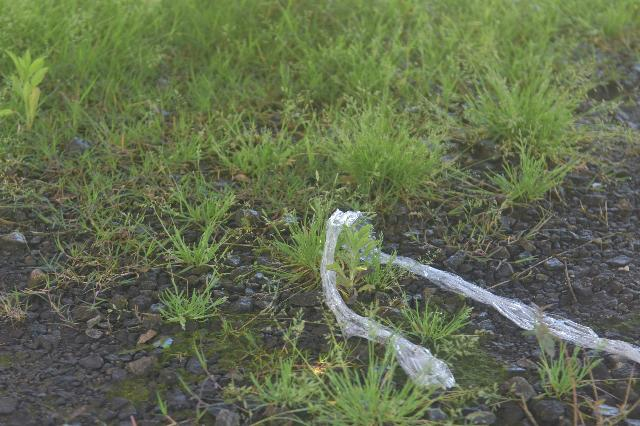MalezaMontesDelPlata: (222, 7, 434, 119), (70, 0, 223, 101), (298, 114, 461, 208), (41, 97, 197, 193), (295, 335, 445, 426), (445, 67, 610, 144), (439, 0, 627, 66), (132, 181, 243, 276), (0, 36, 66, 155), (471, 147, 599, 205), (193, 112, 297, 180), (523, 329, 603, 410), (317, 221, 392, 306), (226, 353, 317, 409), (138, 279, 228, 326), (395, 305, 485, 344)
